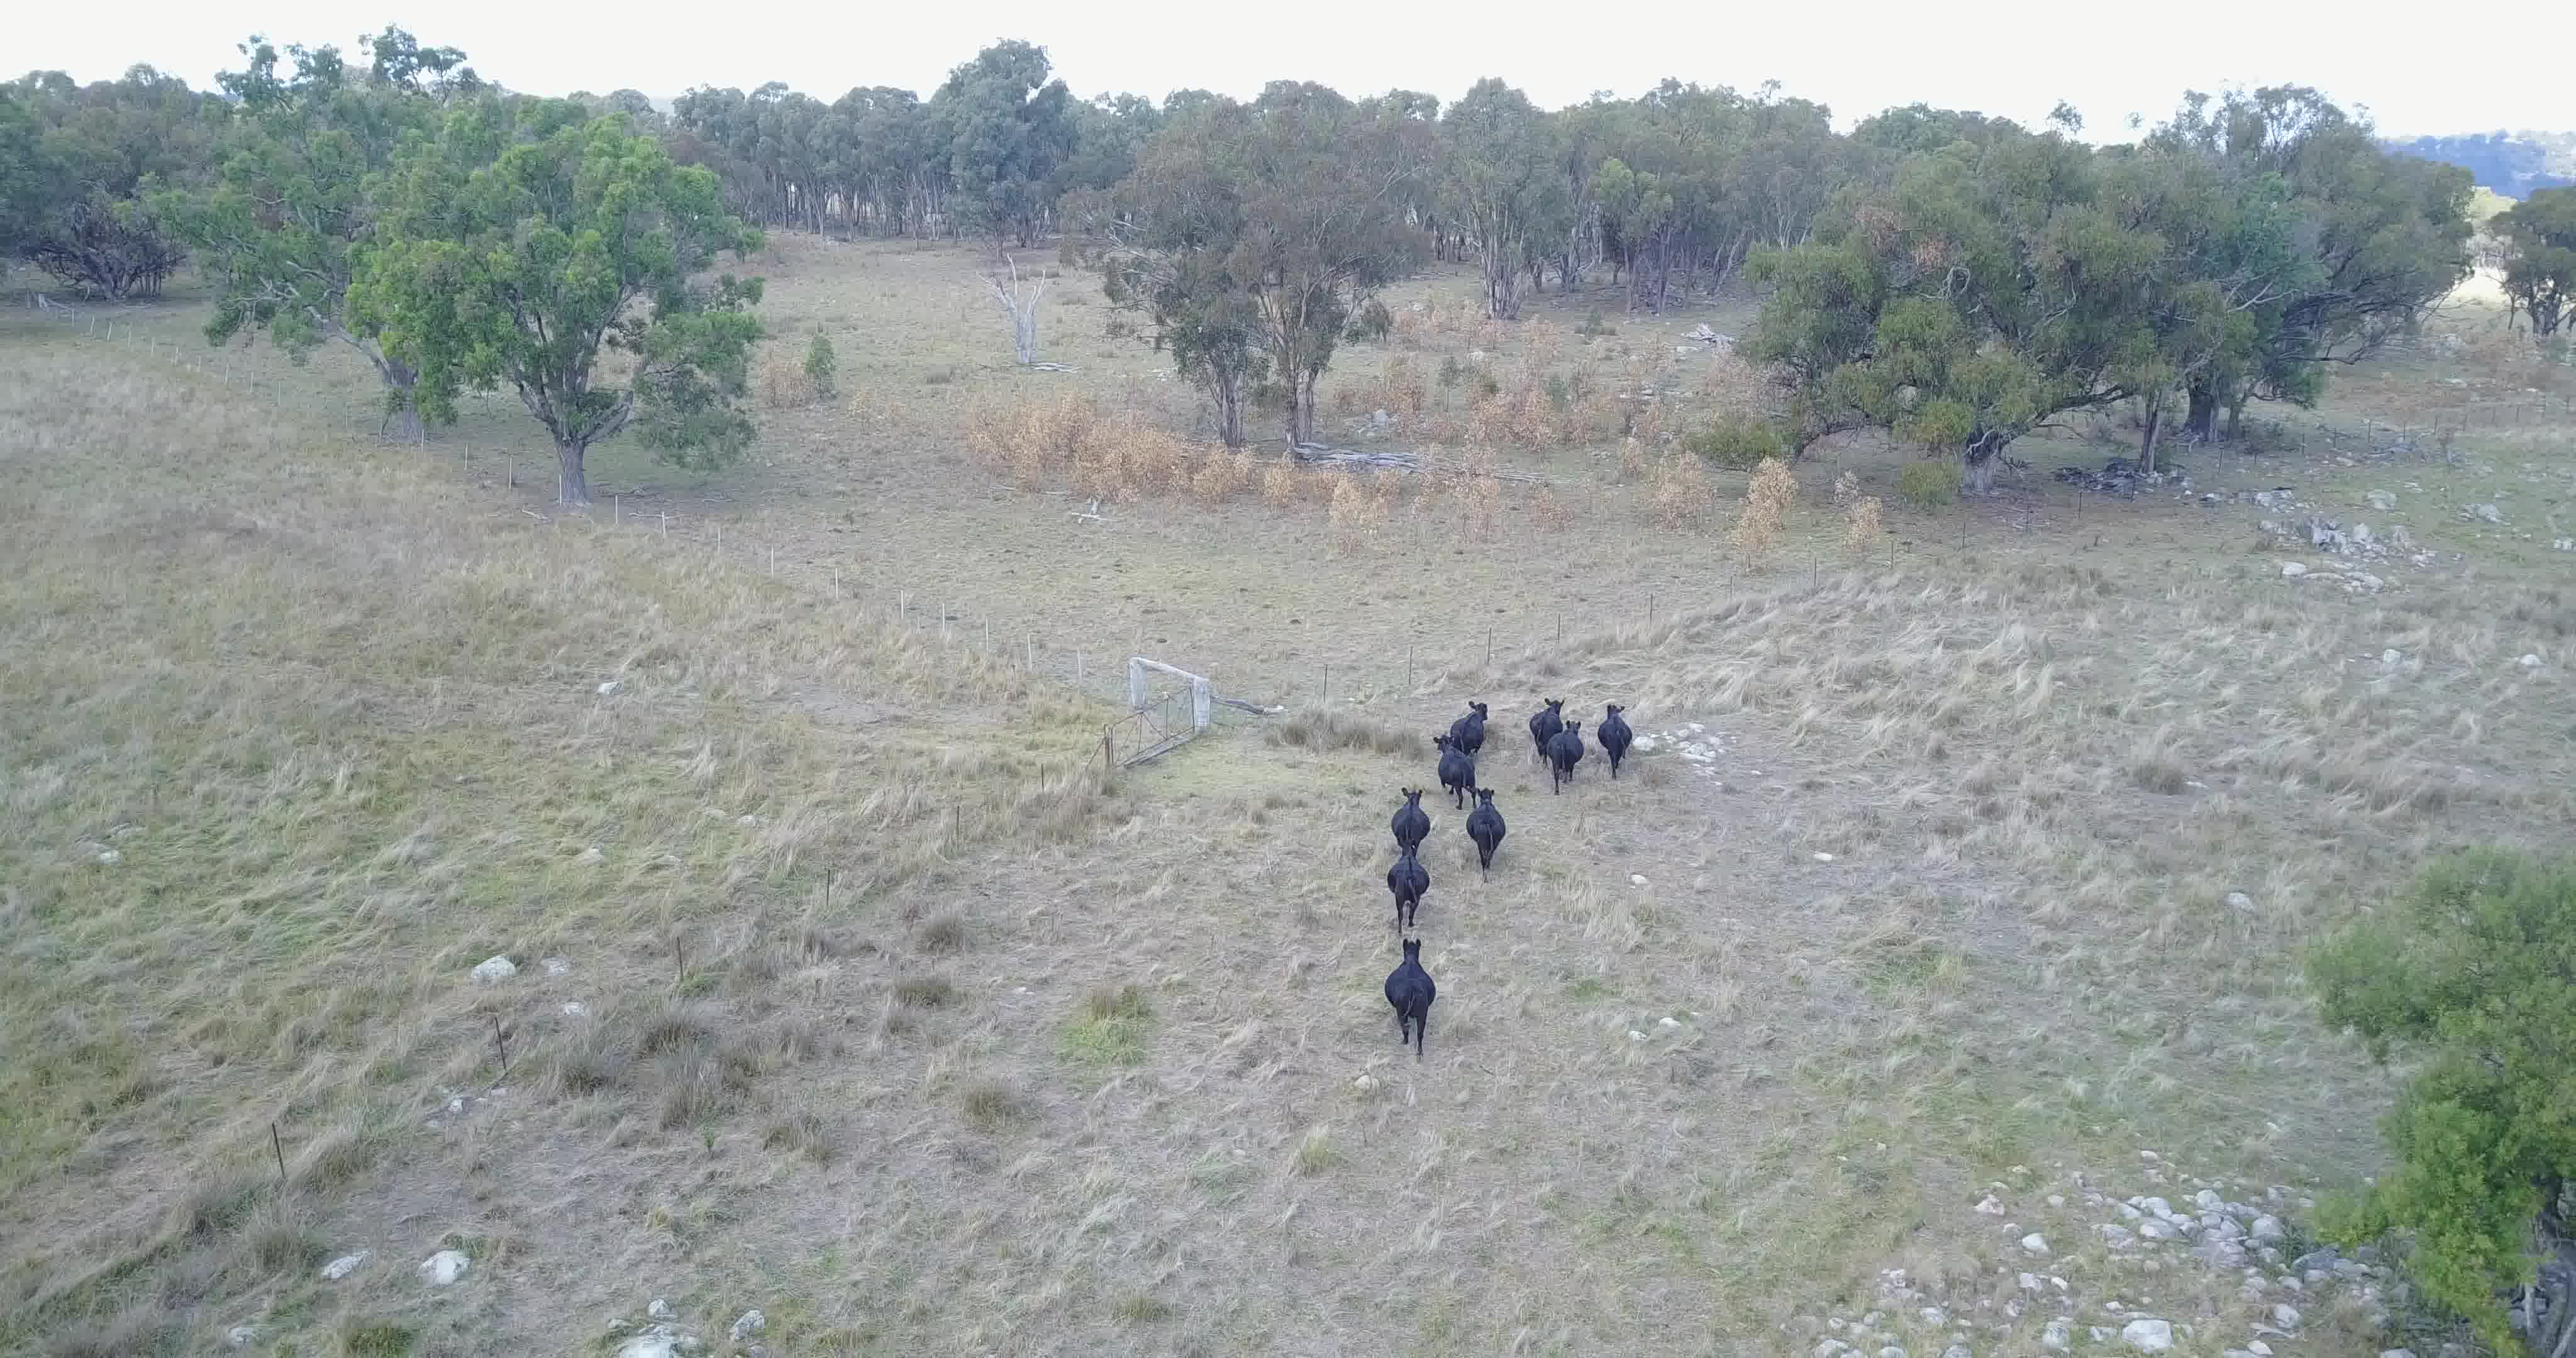cattle: (1380, 934, 1440, 1065), (1458, 787, 1509, 888), (1385, 837, 1431, 941), (1428, 733, 1482, 813), (1387, 784, 1435, 855), (1595, 699, 1634, 782), (1547, 716, 1586, 797), (1446, 695, 1491, 758), (1528, 695, 1564, 748)
